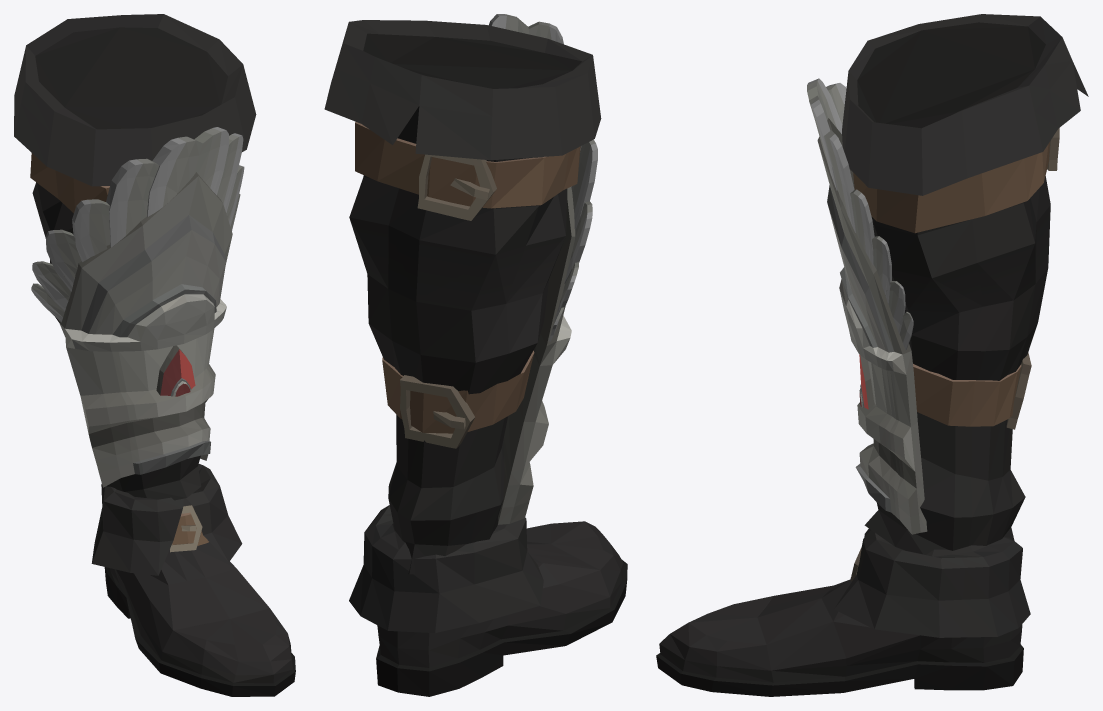
File: lostCrownBootFemale.glb
3 views of the same model, side by side, from view 1: azimuth 30°, elevation 25°; view 2: azimuth 150°, elevation 25°; view 3: azimuth 270°, elevation 25° (orthographic). The views are drawn at different scales.
Visible parts, largest first — view 1: lostCrownBootLowerLeg, lostCrownBootFeet; view 2: lostCrownBootLowerLeg, lostCrownBootFeet; view 3: lostCrownBootLowerLeg, lostCrownBootFeet.
Boxes of the visible parts, x1,y1,x2,y2 form: lostCrownBootLowerLeg: (14,14,256,500); lostCrownBootFeet: (91,464,295,696); lostCrownBootLowerLeg: (324,14,601,574); lostCrownBootFeet: (349,505,627,696); lostCrownBootLowerLeg: (807,14,1088,554); lostCrownBootFeet: (656,528,1030,696).
Size of the model in its own units: 0.2129 by 0.5272 by 0.3349.
